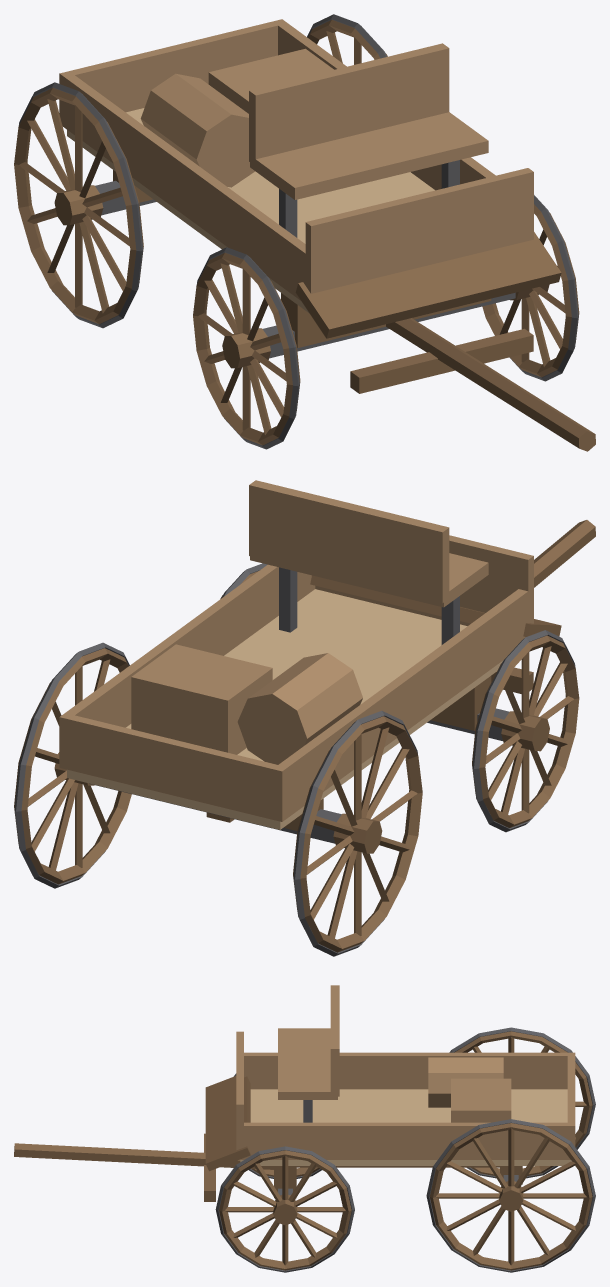
The model's file is SM_Buckboard_Wagon.glb.
3 views of the same model, one above another, from view 1: azimuth 30°, elevation 25°; view 2: azimuth 150°, elevation 25°; view 3: azimuth 270°, elevation 25° (orthographic). The views are drawn at different scales.
Visible parts, largest first — view 1: SM_Buckboard_Wagon; view 2: SM_Buckboard_Wagon; view 3: SM_Buckboard_Wagon.
Boxes of the visible parts, <box> form: SM_Buckboard_Wagon: <box>14,14,595,451</box>; SM_Buckboard_Wagon: <box>14,480,595,956</box>; SM_Buckboard_Wagon: <box>14,985,595,1272</box>.
Bounding box in the file's own units: 1.6 × 1.54 × 3.87.
